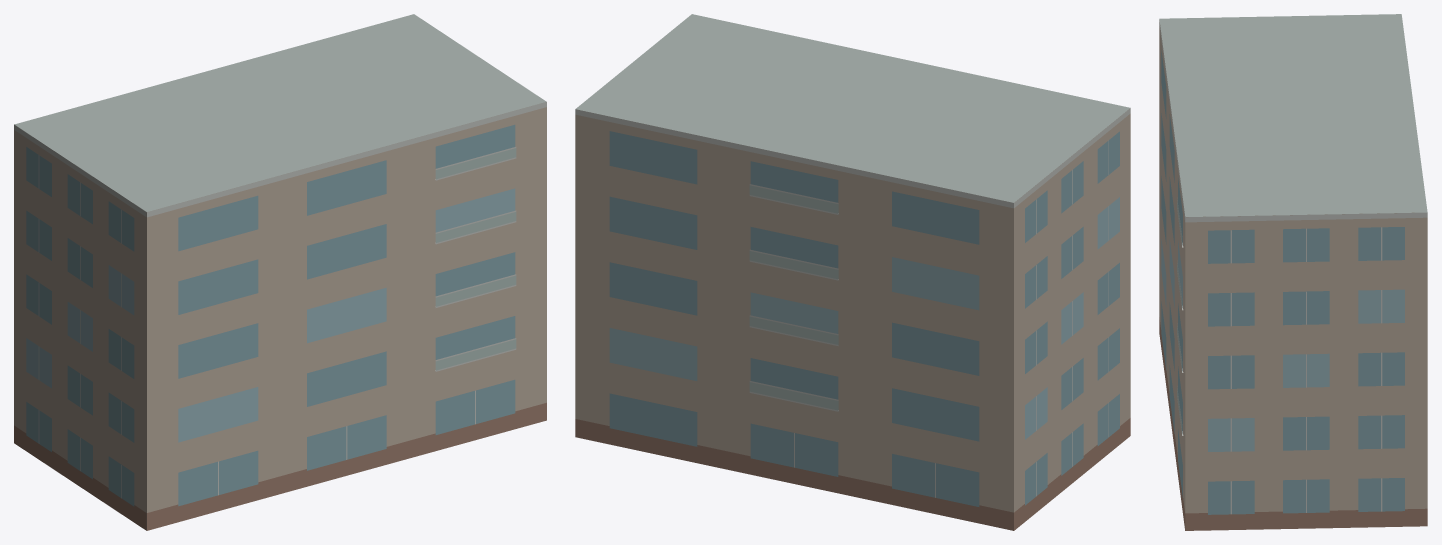
File: survey-upis-32698877.glb
3 views of the same model, side by side, from view 1: azimuth 30°, elevation 25°; view 2: azimuth 150°, elevation 25°; view 3: azimuth 270°, elevation 25° (orthographic). The views are drawn at different scales.
Parts seen in each view (by area): view 1: survey-upis-32698877.tmp; view 2: survey-upis-32698877.tmp; view 3: survey-upis-32698877.tmp.
Boxes of the visible parts, bbox=[...] form: survey-upis-32698877.tmp: bbox=[14, 14, 546, 530]; survey-upis-32698877.tmp: bbox=[575, 14, 1130, 530]; survey-upis-32698877.tmp: bbox=[1159, 14, 1427, 530].
Size of the model in its own units: 20.28 by 14.6 by 11.32.
